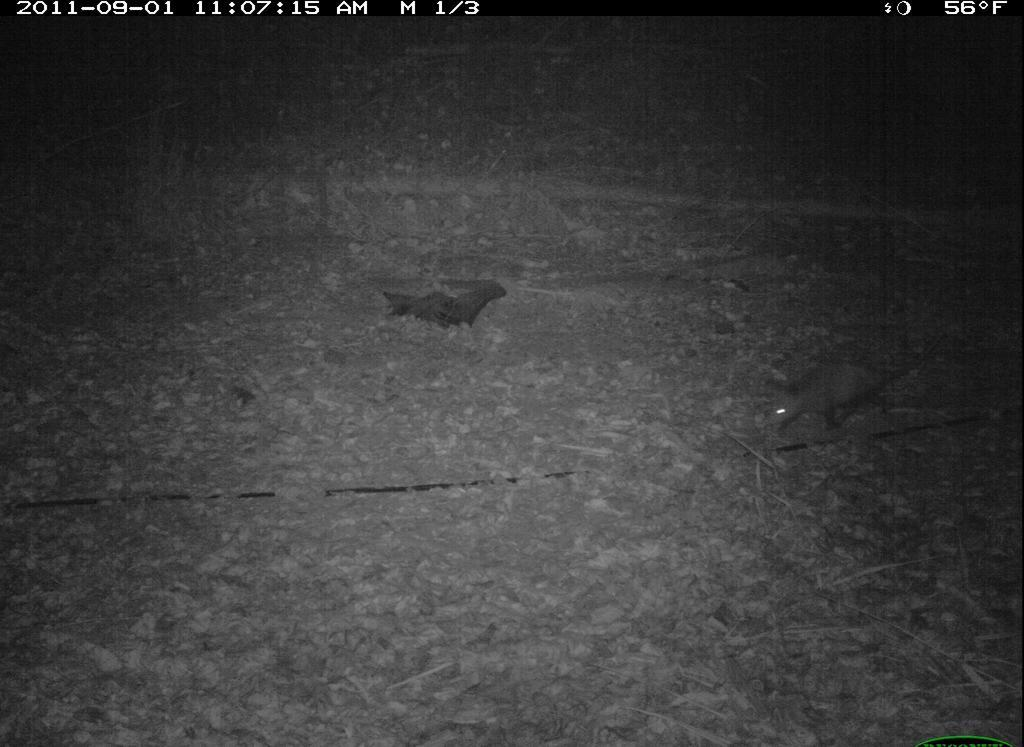opossum: (758, 330, 955, 441)
